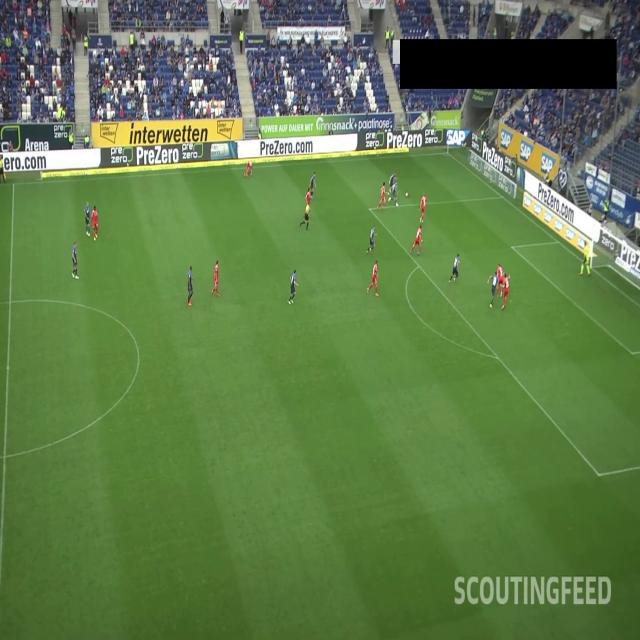ball: (405, 191, 409, 197)
team1: (288, 268, 298, 304), (449, 250, 460, 282), (186, 266, 194, 308), (488, 271, 497, 307), (388, 181, 399, 209), (71, 242, 79, 279), (367, 224, 377, 253), (84, 201, 91, 238), (308, 172, 318, 196), (390, 172, 396, 198)
team2: (367, 261, 381, 299), (410, 224, 423, 256), (212, 259, 222, 295), (91, 204, 100, 240), (305, 187, 314, 220), (501, 272, 509, 308), (496, 263, 504, 297), (377, 182, 386, 212), (419, 192, 427, 224), (245, 159, 254, 180)
